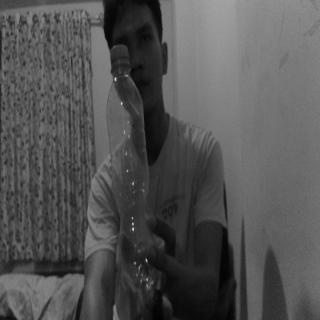plastic_bottles: (108, 43, 156, 293)
